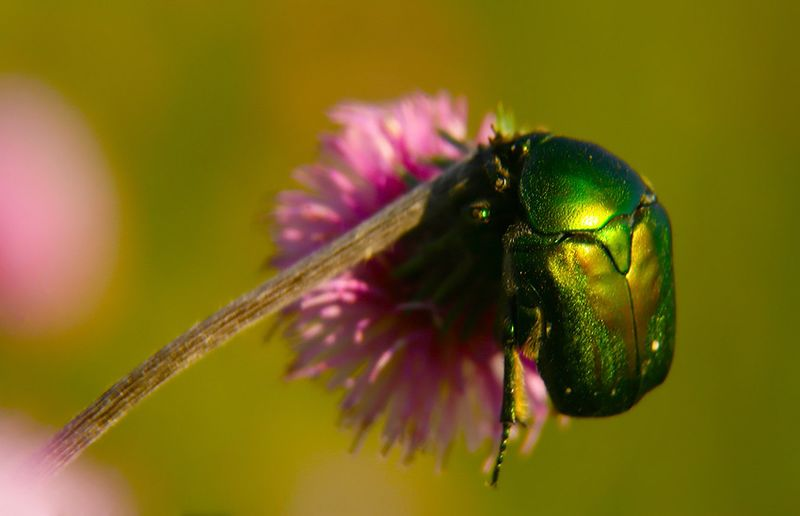Cetonia_aurata: (470, 119, 680, 488)
